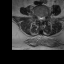CCS_normal: (40, 14, 42, 23)
LFS_normal: (44, 13, 46, 20)
LLS_normal: (42, 14, 44, 22)
RFS_normal: (36, 13, 38, 20)
RLS_normal: (38, 13, 40, 22)
